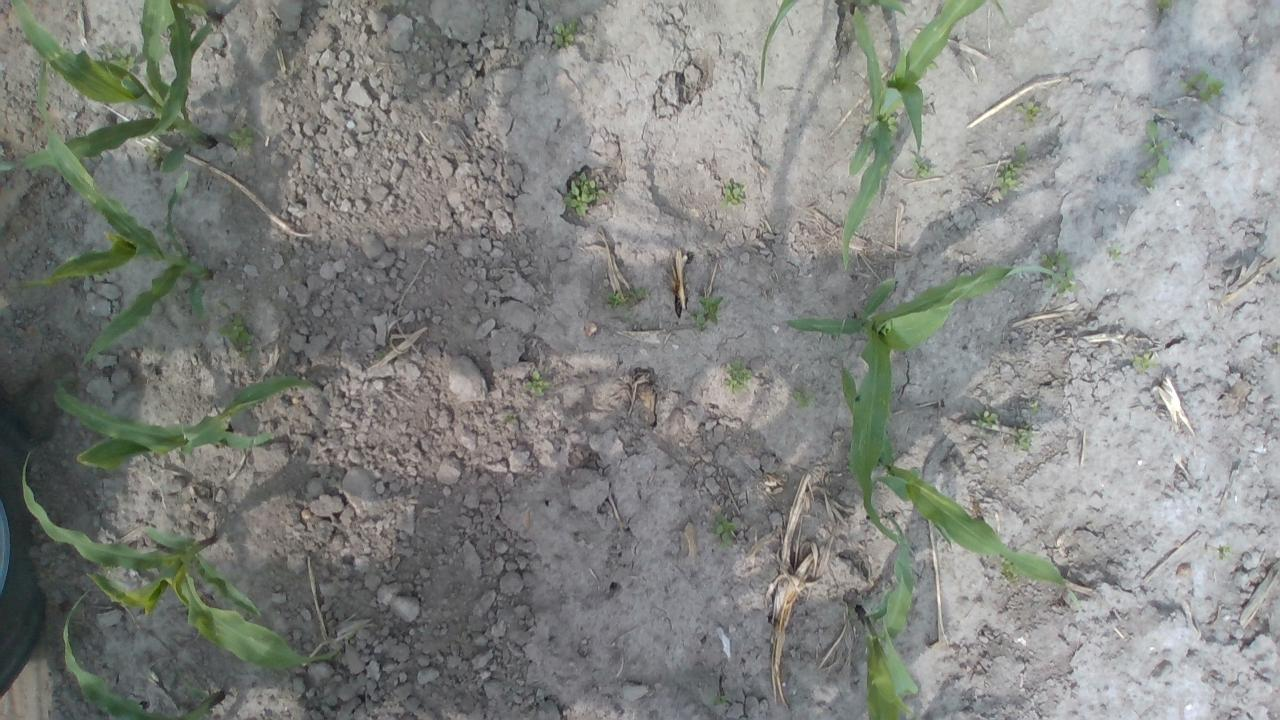Maize: (782, 261, 1076, 551), (20, 446, 378, 676), (16, 47, 215, 376), (838, 367, 1072, 587), (840, 0, 996, 275), (1, 0, 226, 179), (50, 370, 328, 474), (58, 586, 232, 720), (849, 513, 926, 720), (758, 0, 908, 95)
Weeds: (1138, 118, 1170, 188), (562, 175, 605, 220), (996, 139, 1028, 192), (709, 510, 745, 548), (1180, 73, 1227, 100), (222, 315, 254, 353), (100, 45, 138, 73), (1042, 257, 1074, 289), (1018, 402, 1038, 450), (695, 296, 723, 328), (727, 360, 754, 393), (610, 285, 646, 308), (719, 180, 745, 208), (1131, 349, 1158, 375), (553, 19, 577, 48), (1018, 100, 1046, 122), (522, 368, 546, 393), (228, 126, 252, 148), (914, 158, 936, 180), (1150, 2, 1180, 16), (978, 411, 998, 428), (794, 390, 812, 407), (1214, 544, 1231, 562), (1108, 247, 1118, 260)
